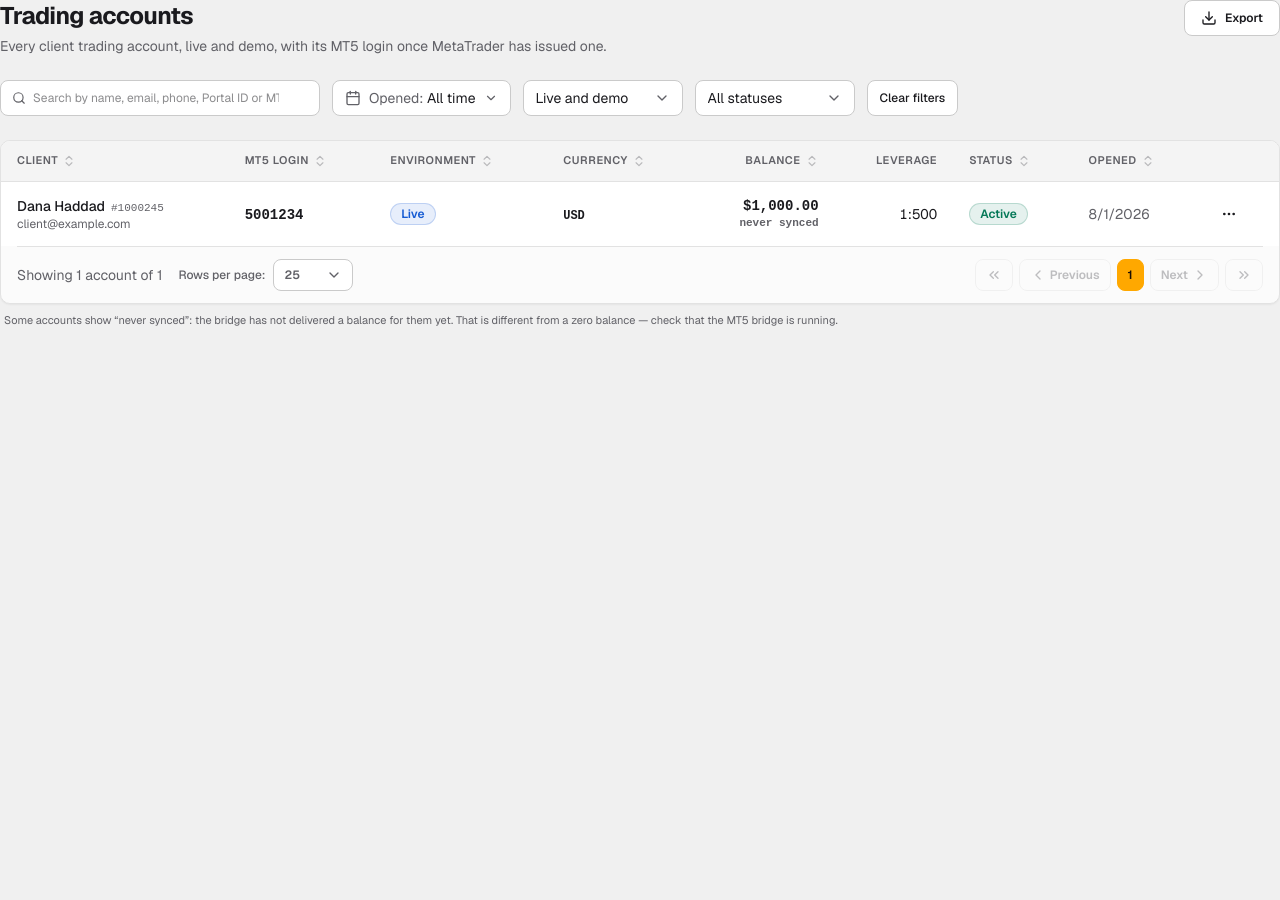
Test: moving money on a trading account › disables the deposit direction without wallets.credit
The image size is (1280, 900).
Expected: the text "client@example.com" is shown, [17,216,131,232]
Step 1. Click the button named "actions for account" → [1229, 214], box [1213,198,1245,230]
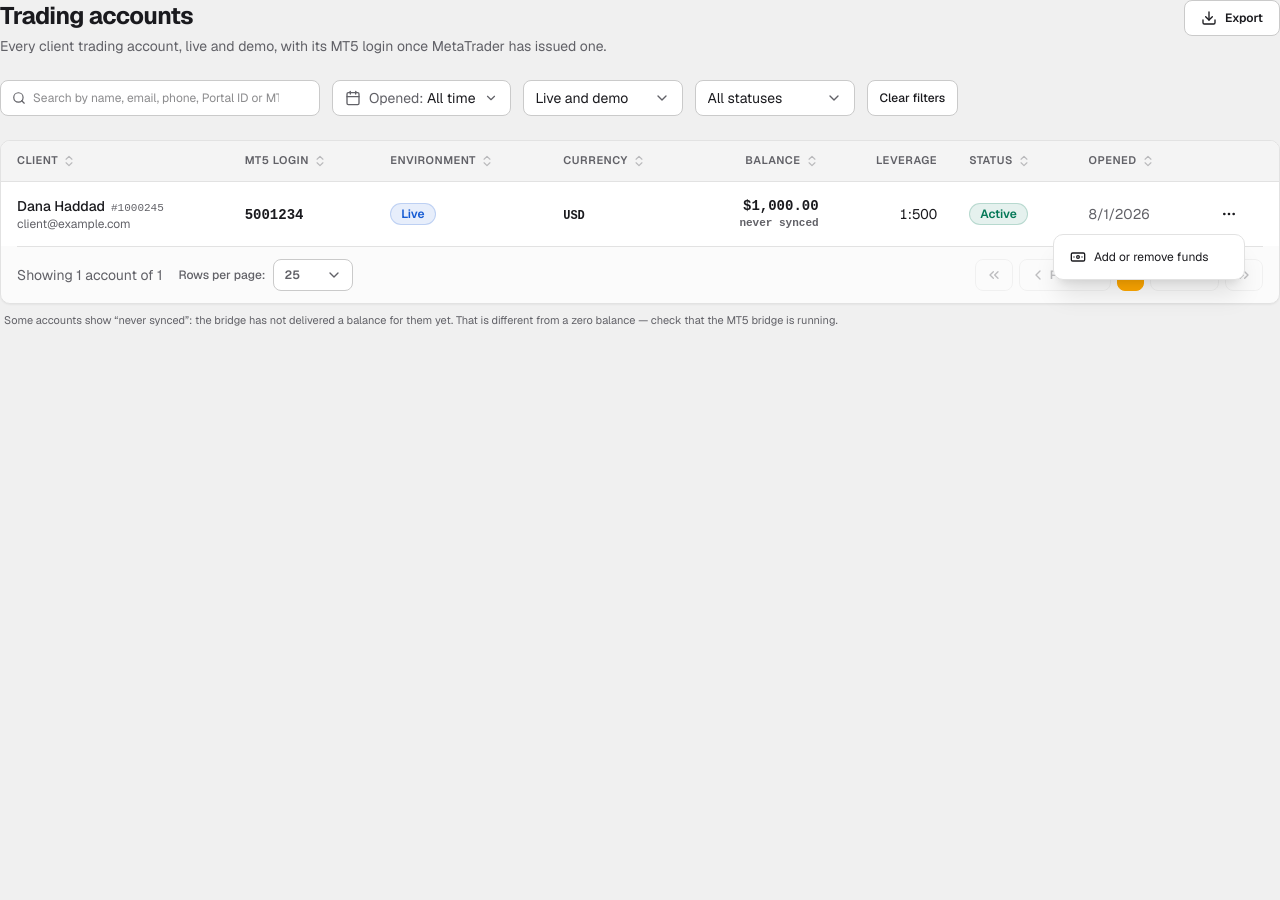
Step 2. Click the menu item "Add or remove funds" → [1139, 257], box [1070,249,1208,265]
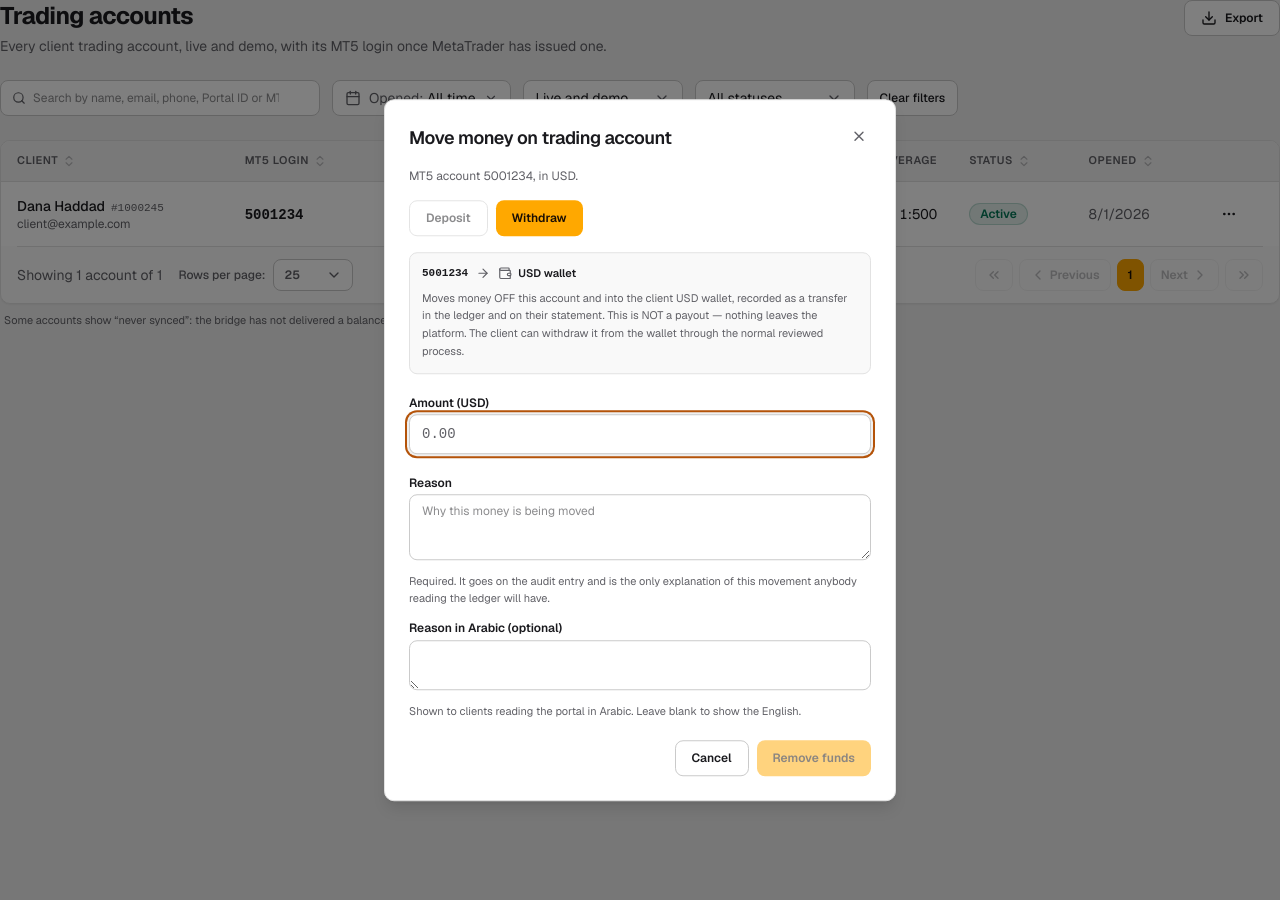
Expected: the button "Remove funds" is shown, [756,740,871,776]
Expected: the button "Deposit" is disabled, [409,200,488,236]
Expected: the button "Withdraw" is enabled, [496,200,583,236]
